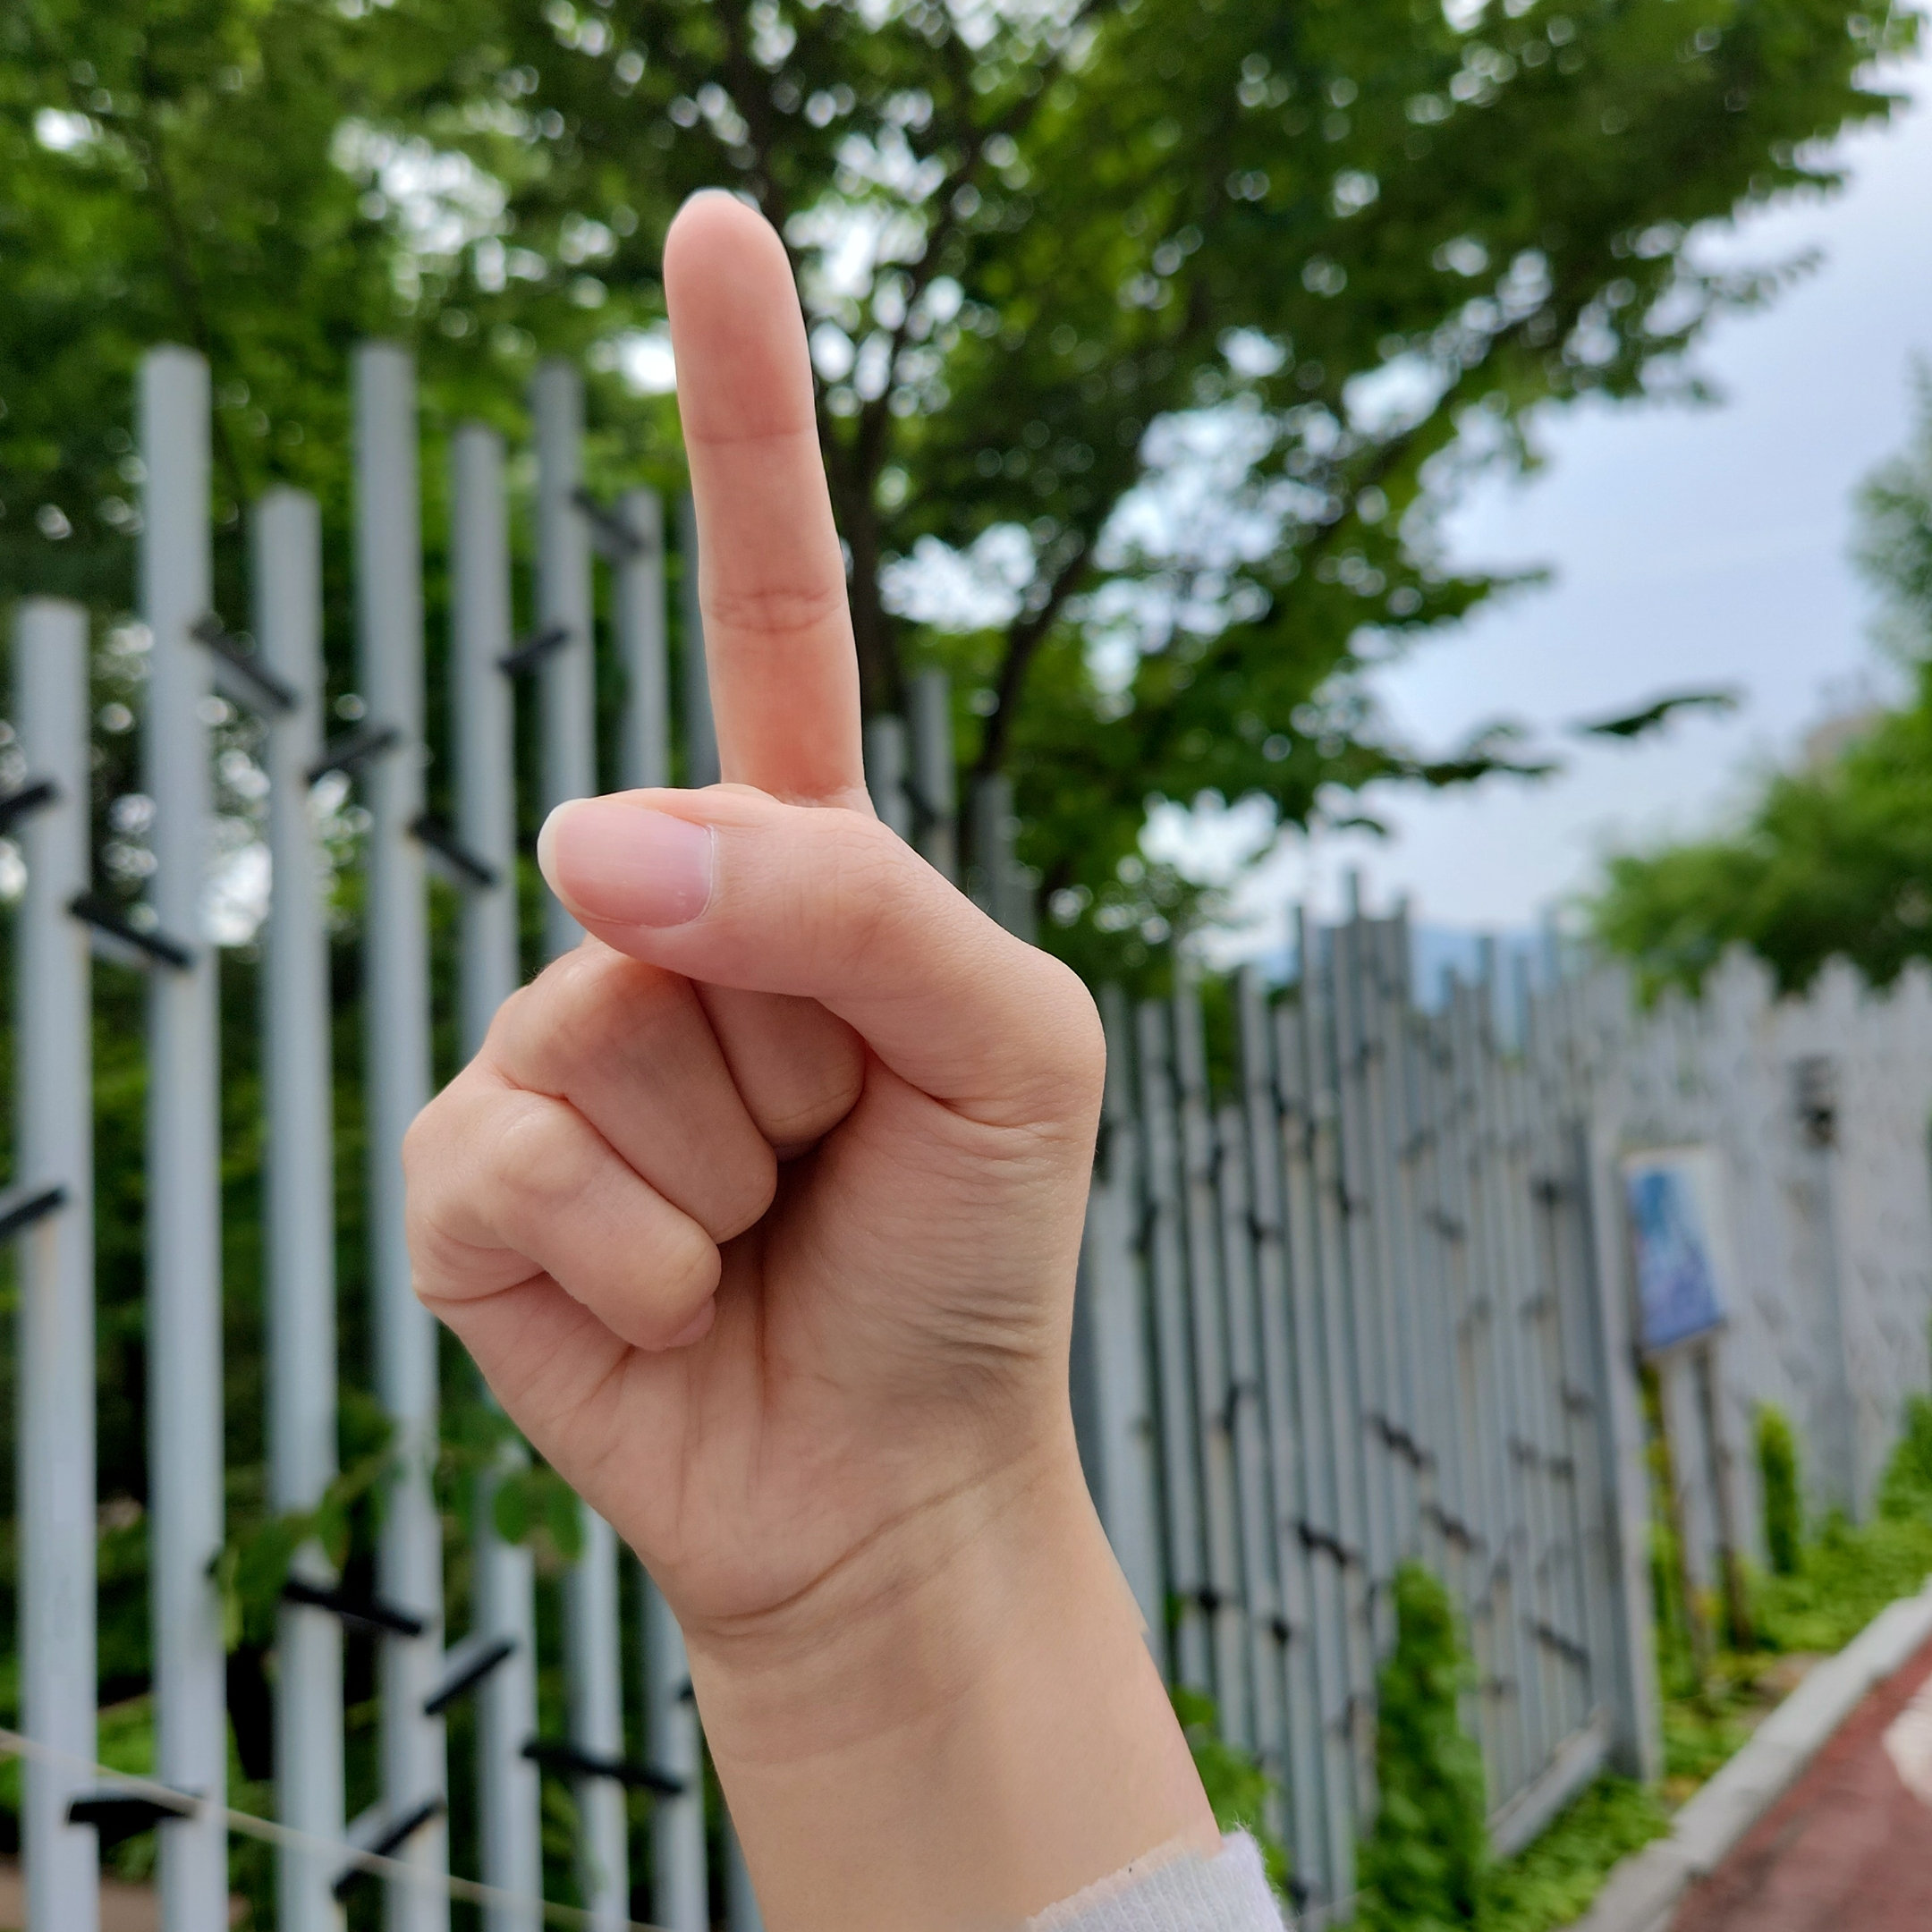what: (395, 177, 1113, 1614)
